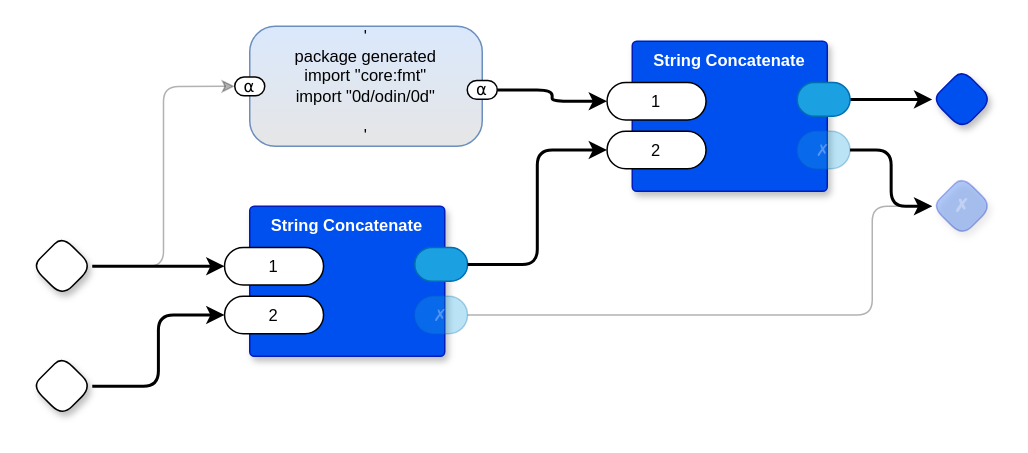
Some shapes in this 1028 by 453 pixel diagram are drawn without their labels. The centre of each missing label's shape, as x and y in pixels:
"gen" belongs at point (63, 268).
"inc" belongs at point (63, 388).
